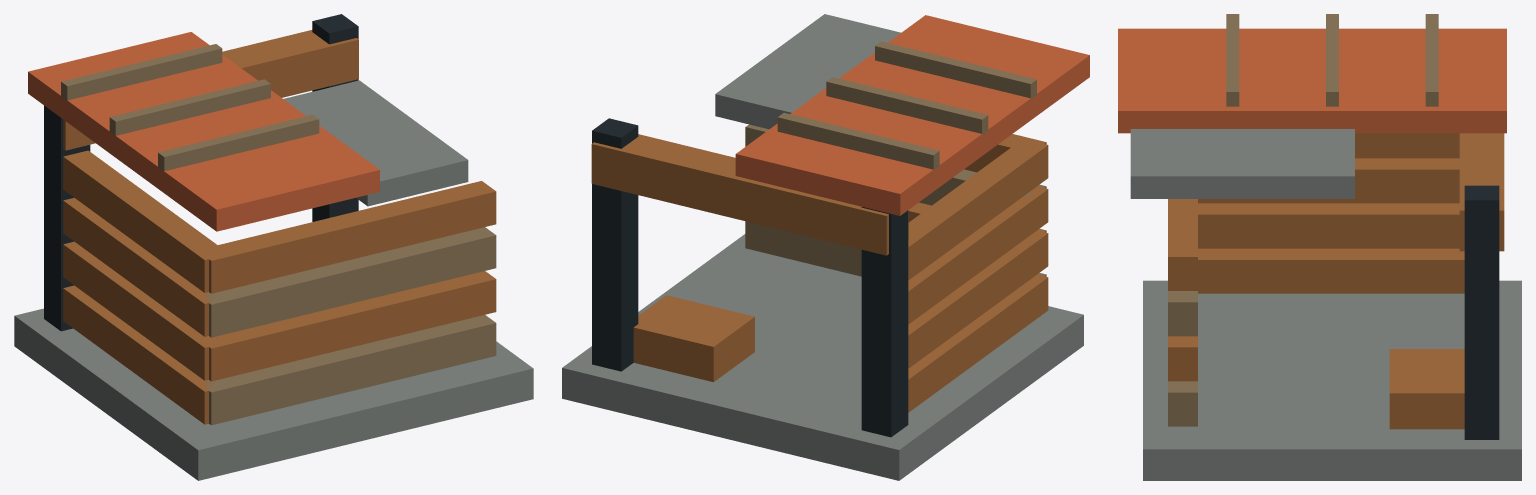
The model's file is base_shack.glb.
3 views of the same model, side by side, from view 1: azimuth 30°, elevation 25°; view 2: azimuth 150°, elevation 25°; view 3: azimuth 270°, elevation 25° (orthographic). The views are drawn at different scales.
Parts seen in each view (by area): view 1: broken_roof, floor, rear_plank.003, rear_plank.001, rear_plank.002, rear_plank, roof_patch, side_plank.003, side_plank, side_plank.002, side_plank.001, lintel (+5 smaller); view 2: floor, broken_roof, lintel, roof_patch, post, post.001, side_plank.003, debris, side_plank, side_plank.002, side_plank.001, roof_ridge (+5 smaller); view 3: floor, broken_roof, roof_patch, side_plank, side_plank.001, post.001, debris, side_plank.002, lintel, rear_plank.003, side_plank.003, rear_plank (+5 smaller).
Boxes of the visible parts, bbox=[...] form: broken_roof: bbox=[28, 32, 379, 231]; floor: bbox=[14, 308, 533, 480]; rear_plank.003: bbox=[197, 181, 496, 293]; rear_plank.001: bbox=[199, 271, 496, 381]; rear_plank.002: bbox=[202, 227, 496, 337]; rear_plank: bbox=[204, 315, 496, 425]; roof_patch: bbox=[283, 80, 468, 206]; side_plank.003: bbox=[63, 150, 221, 292]; side_plank: bbox=[63, 285, 211, 424]; side_plank.002: bbox=[63, 197, 211, 336]; side_plank.001: bbox=[63, 241, 209, 380]; lintel: bbox=[63, 30, 358, 150]; floor: bbox=[562, 234, 1083, 480]; broken_roof: bbox=[735, 15, 1089, 215]; lintel: bbox=[591, 134, 908, 255]; roof_patch: bbox=[715, 14, 900, 129]; post: bbox=[861, 207, 908, 437]; post.001: bbox=[592, 118, 638, 371]; side_plank.003: bbox=[908, 139, 1048, 280]; debris: bbox=[633, 295, 754, 382]; side_plank: bbox=[908, 274, 1048, 412]; side_plank.002: bbox=[908, 186, 1048, 324]; side_plank.001: bbox=[908, 232, 1048, 368]; roof_ridge: bbox=[777, 112, 939, 169]; floor: bbox=[1143, 280, 1521, 480]; broken_roof: bbox=[1118, 28, 1506, 133]; roof_patch: bbox=[1130, 129, 1354, 198]; side_plank: bbox=[1198, 248, 1464, 293]; side_plank.001: bbox=[1198, 203, 1459, 248]; post.001: bbox=[1464, 185, 1499, 439]; debris: bbox=[1389, 349, 1464, 429]; side_plank.002: bbox=[1198, 158, 1459, 203]; lintel: bbox=[1459, 133, 1504, 251]; rear_plank.003: bbox=[1168, 199, 1197, 290]; side_plank.003: bbox=[1355, 133, 1459, 158]; rear_plank: bbox=[1168, 381, 1197, 426].
Bounding box in the file's own units: 0.8 × 0.6675 × 0.81.
